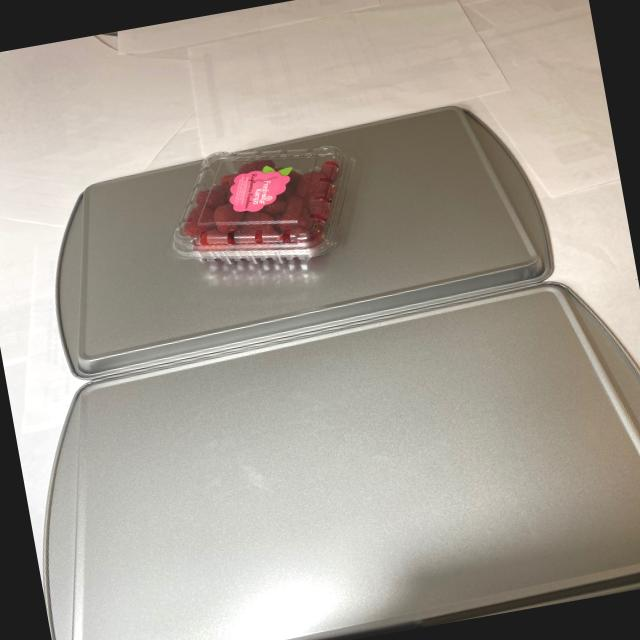raspberries: (172, 148, 349, 280)
